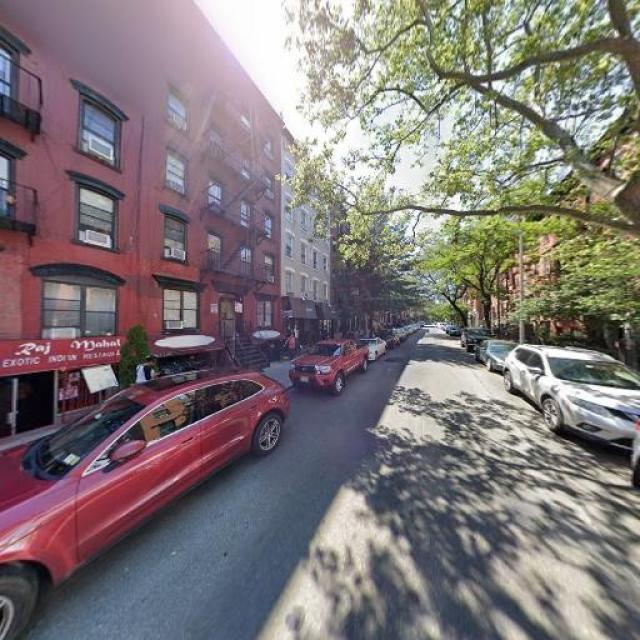Building: (1, 1, 135, 432), (140, 1, 280, 394), (284, 129, 329, 357)
